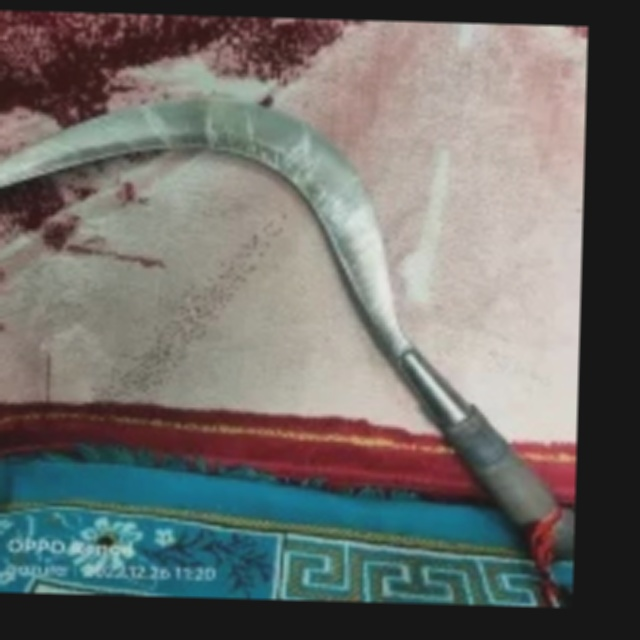Sharp-Object: (0, 76, 586, 555)
